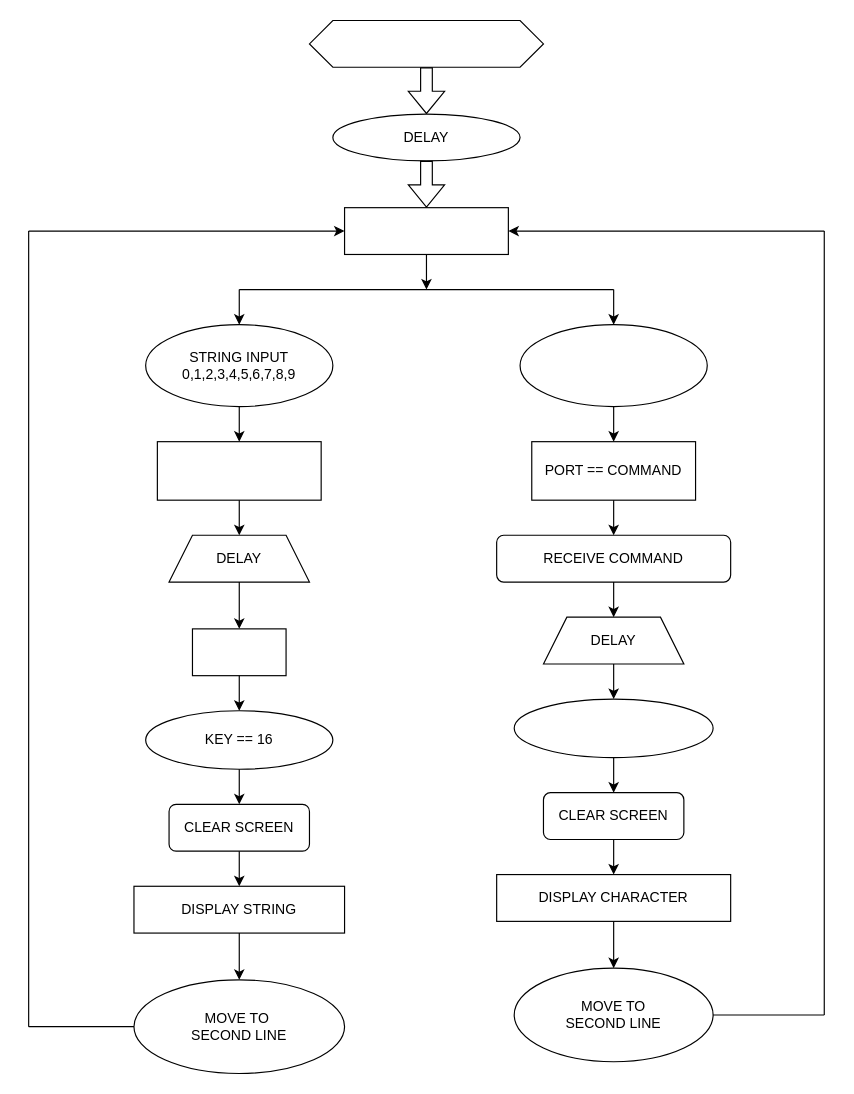
This 854x1094 diagram has some shape labels left out. Each missing label, with the centre of its shape:
"CHARACTER INPUT" belongs at (x=613, y=365).
"INPUT PORT" belongs at (x=425, y=43).
"KEY++" belongs at (x=238, y=652).
"PORT == 0" belongs at (x=613, y=728).
"SET KEY==0" belongs at (x=425, y=230).
"SHOW OUTPUT ON LCD" belongs at (x=238, y=470).
